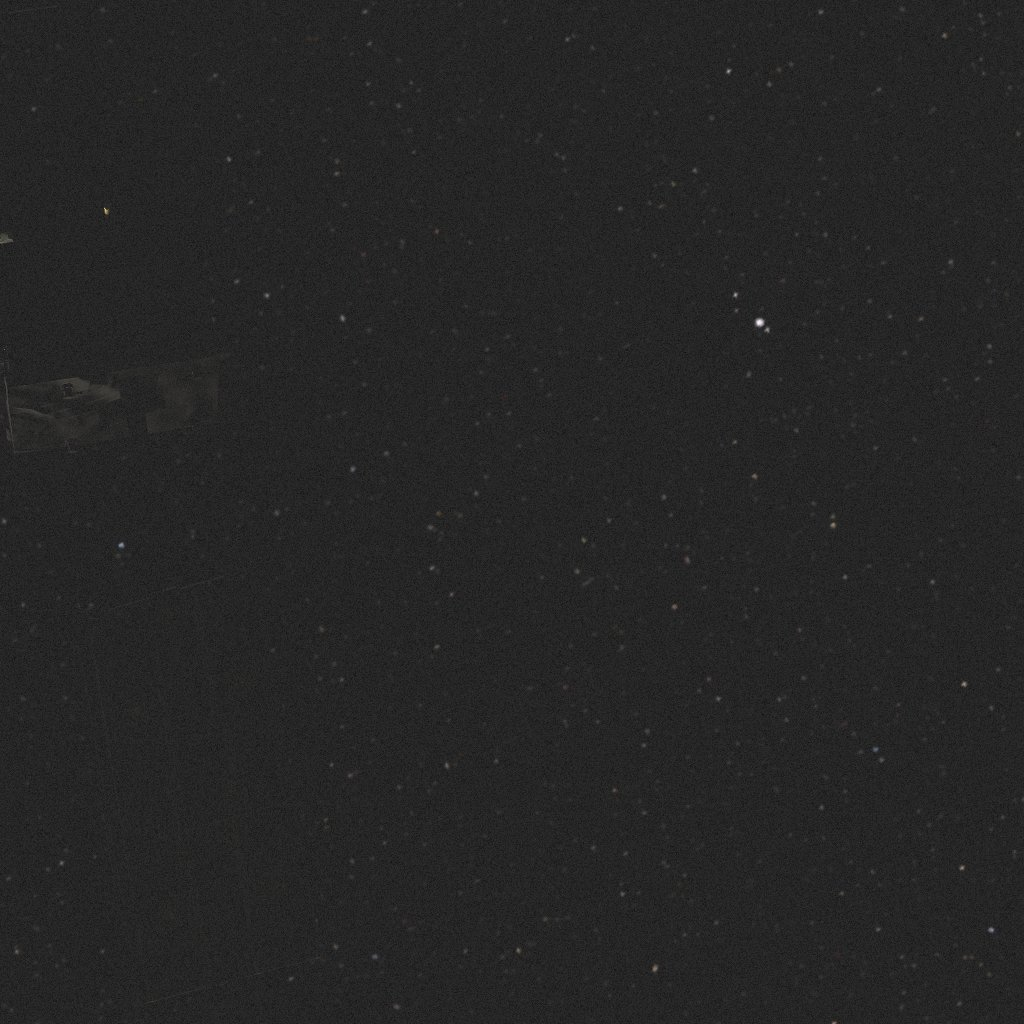smart_1: (0, 0, 333, 1024)
